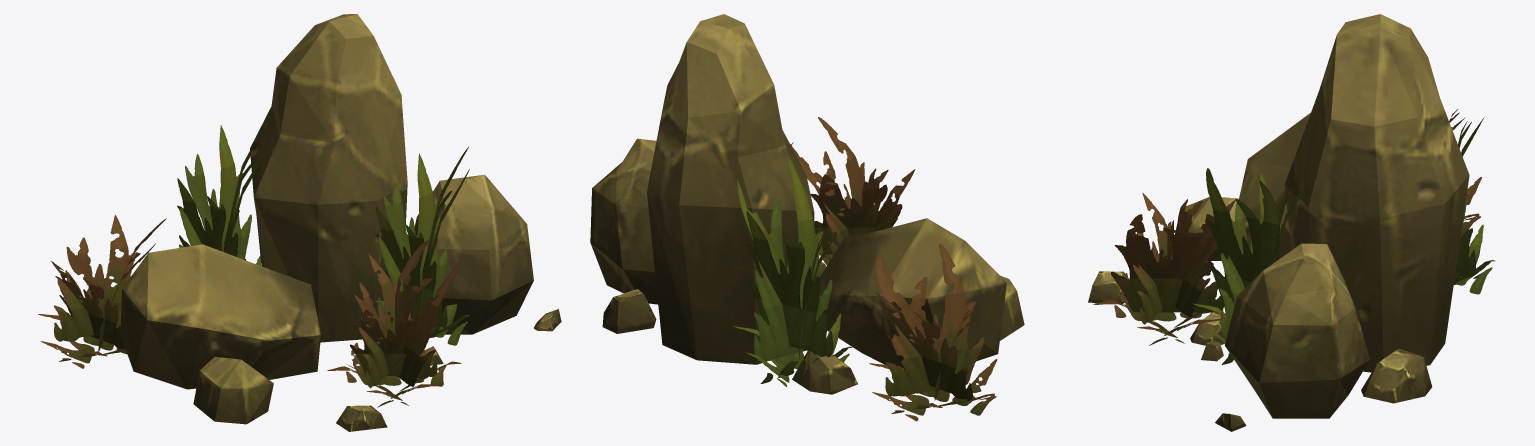
Rendered from esthgraveyard_rocks_03.fbx.
3 renders of one model, left to right at view 1: azimuth 30°, elevation 25°; view 2: azimuth 150°, elevation 25°; view 3: azimuth 270°, elevation 25°, orthographic. The views are drawn at different scales.
Visible parts, largest first — view 1: obj2.013; view 2: obj2.013; view 3: obj2.013.
Boxes of the visible parts, bbox=[...] form: obj2.013: bbox=[38, 14, 561, 431]; obj2.013: bbox=[590, 14, 1024, 421]; obj2.013: bbox=[1088, 14, 1494, 431].
Size of the model in its own units: 3.41 by 2.09 by 2.62.
